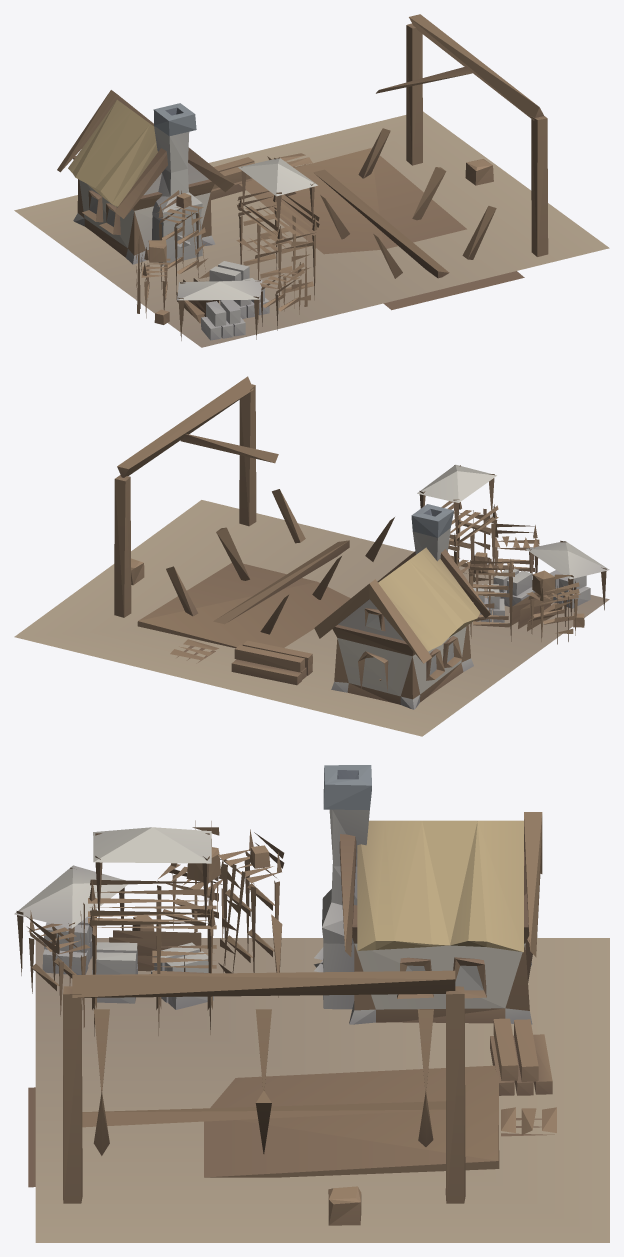
Rendered from shipyard.lite.glb.
The picture shows the model from 3 angles, top to bottom: view 1: azimuth 30°, elevation 25°; view 2: azimuth 150°, elevation 25°; view 3: azimuth 270°, elevation 25°; orthographic projection. The views are drawn at different scales.
Parts seen in each view (by area): view 1: shipyard; view 2: shipyard; view 3: shipyard.
Part boxes in pixels (x1,y1,x2,y2): shipyard: (14,14,609,347); shipyard: (14,376,609,736); shipyard: (14,765,609,1242).
Size of the model in its own units: 5.09 by 1.75 by 4.05.
